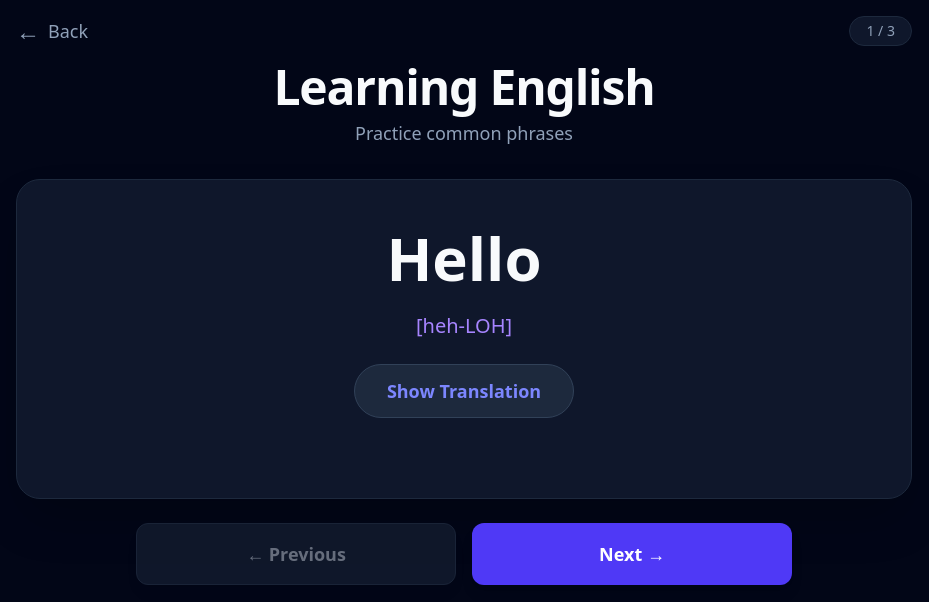
Test: Learning › navigates to previous phrase when previous button is clicked
Go to second phrase
Step 1. Click the button with aria-label "Next phrase" → (632, 554), box [472, 523, 792, 585]
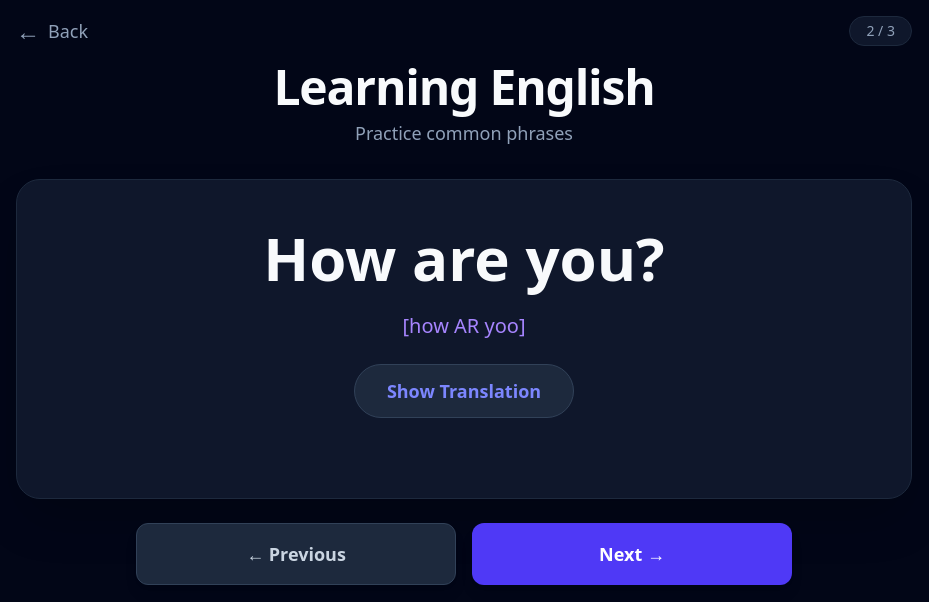
Expected: the text "How are you?" is shown, [263, 217, 665, 299]
Go back to first phrase
Step 2. Click the button with aria-label "Previous phrase" → (296, 554), box [136, 523, 456, 585]
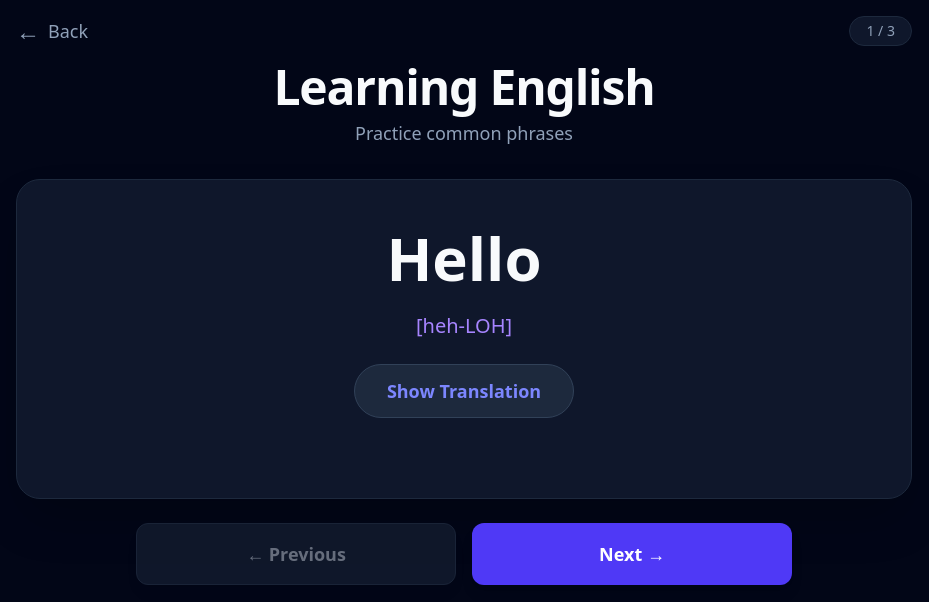
Expected: the text "Hello" is shown, [386, 217, 542, 299]
